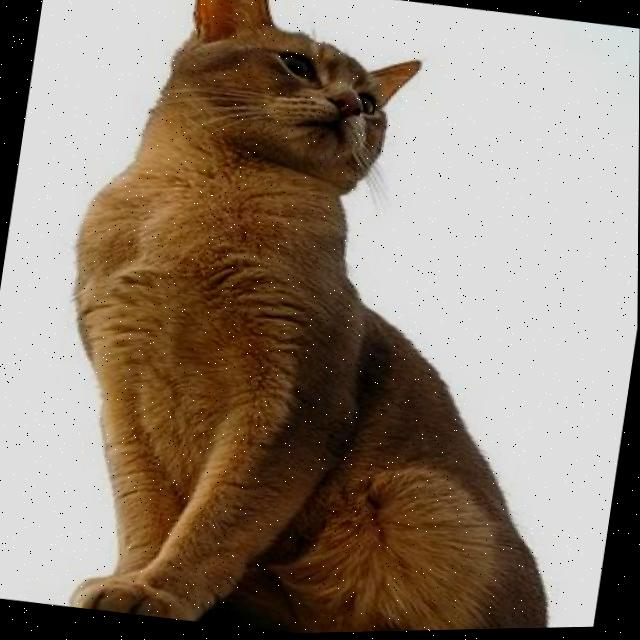Abyssinian: (8, 0, 640, 640)
